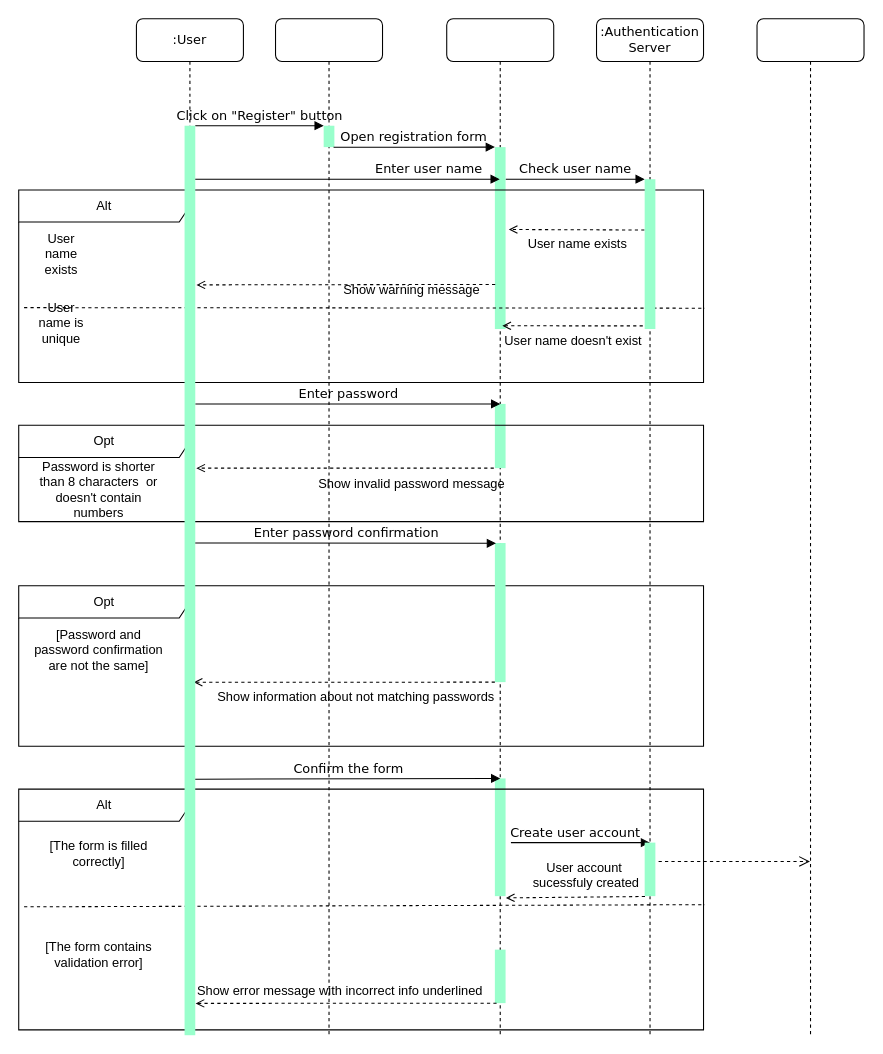
The diagram is 883 pixels wide and 1054 high, and some of its shapes have lost their labels. Each missing label, with the box of its shape:
:Page: (274, 18, 383, 1035)
:Registration Form: (446, 18, 554, 1035)
:User account: (756, 18, 864, 1035)
